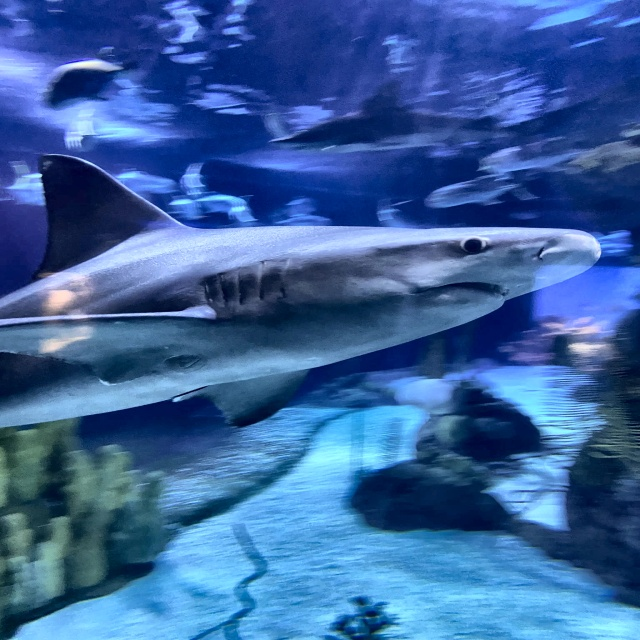fish: (39, 56, 137, 112)
shark: (0, 152, 603, 428), (267, 84, 595, 157)
